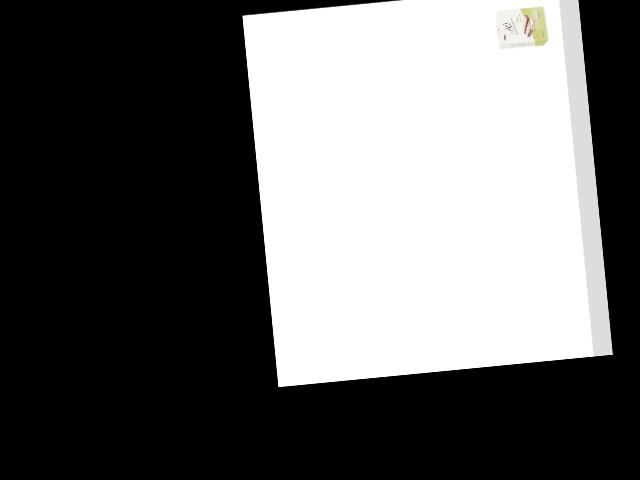chocolate: (493, 1, 551, 52)
